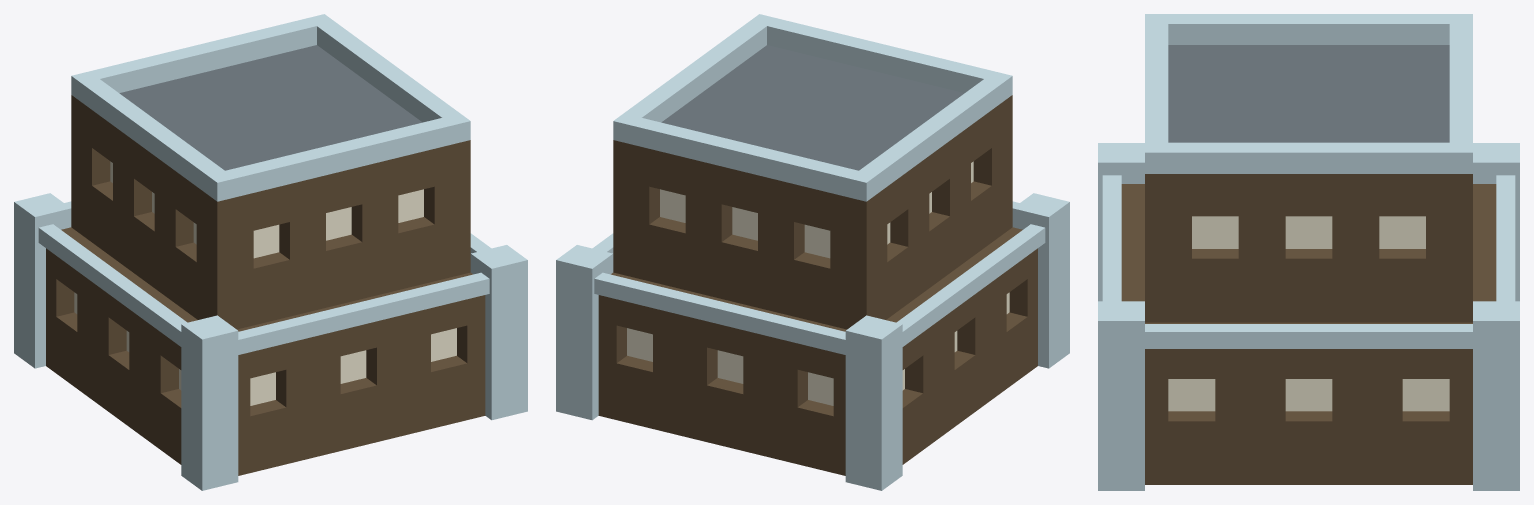
File: Building_6 (Brown).obj
3 renders of one model, left to right at view 1: azimuth 30°, elevation 25°; view 2: azimuth 150°, elevation 25°; view 3: azimuth 270°, elevation 25°, orthographic. The views are drawn at different scales.
Parts seen in each view (by area): view 1: Building_6_(Brown); view 2: Building_6_(Brown); view 3: Building_6_(Brown).
Part boxes in pixels (x1,y1,x2,y2): Building_6_(Brown): (14,14,527,490); Building_6_(Brown): (556,14,1069,490); Building_6_(Brown): (1098,14,1519,490).
Bounding box in the file's own units: 1.8 × 1.5 × 1.8.
